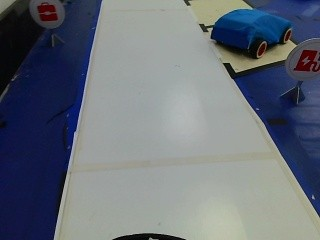battery: (288, 44, 318, 81)
car: (206, 3, 293, 60)
company: (27, 0, 64, 27)
